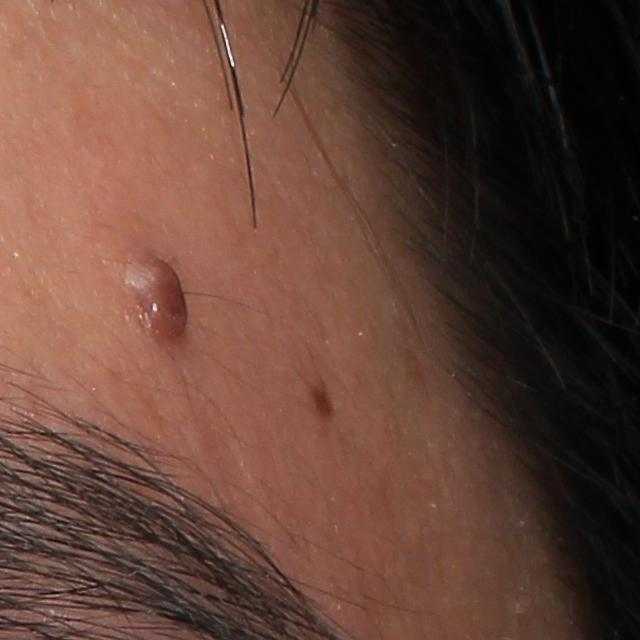nevus: (123, 253, 196, 345), (306, 380, 334, 424)
